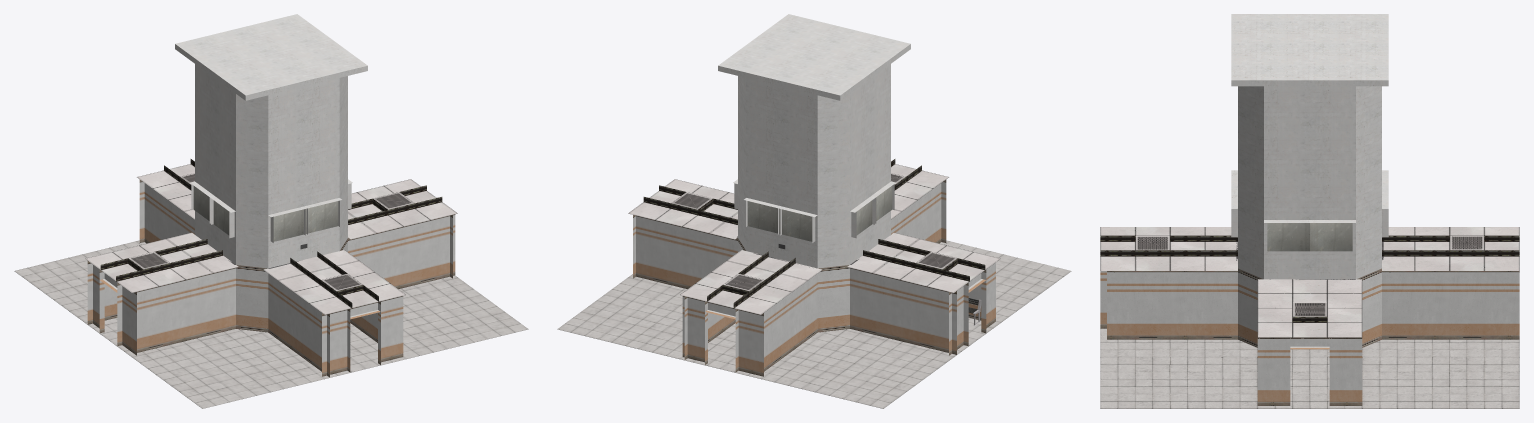
The model's file is RZ_room4.glb.
The picture shows the model from 3 angles, left to right: view 1: azimuth 30°, elevation 25°; view 2: azimuth 150°, elevation 25°; view 3: azimuth 270°, elevation 25°; orthographic projection. The views are drawn at different scales.
Parts seen in each view (by area): view 1: OZ_room4; view 2: OZ_room4; view 3: OZ_room4.
Part boxes in pixels (x1=…): OZ_room4: x1=14, y1=14, x2=528, y2=408; OZ_room4: x1=557, y1=14, x2=1071, y2=408; OZ_room4: x1=1100, y1=14, x2=1519, y2=408.
Bounding box in the file's own units: 20.48 × 14.73 × 20.48.
Materials: 10 (10 with a texture image).
